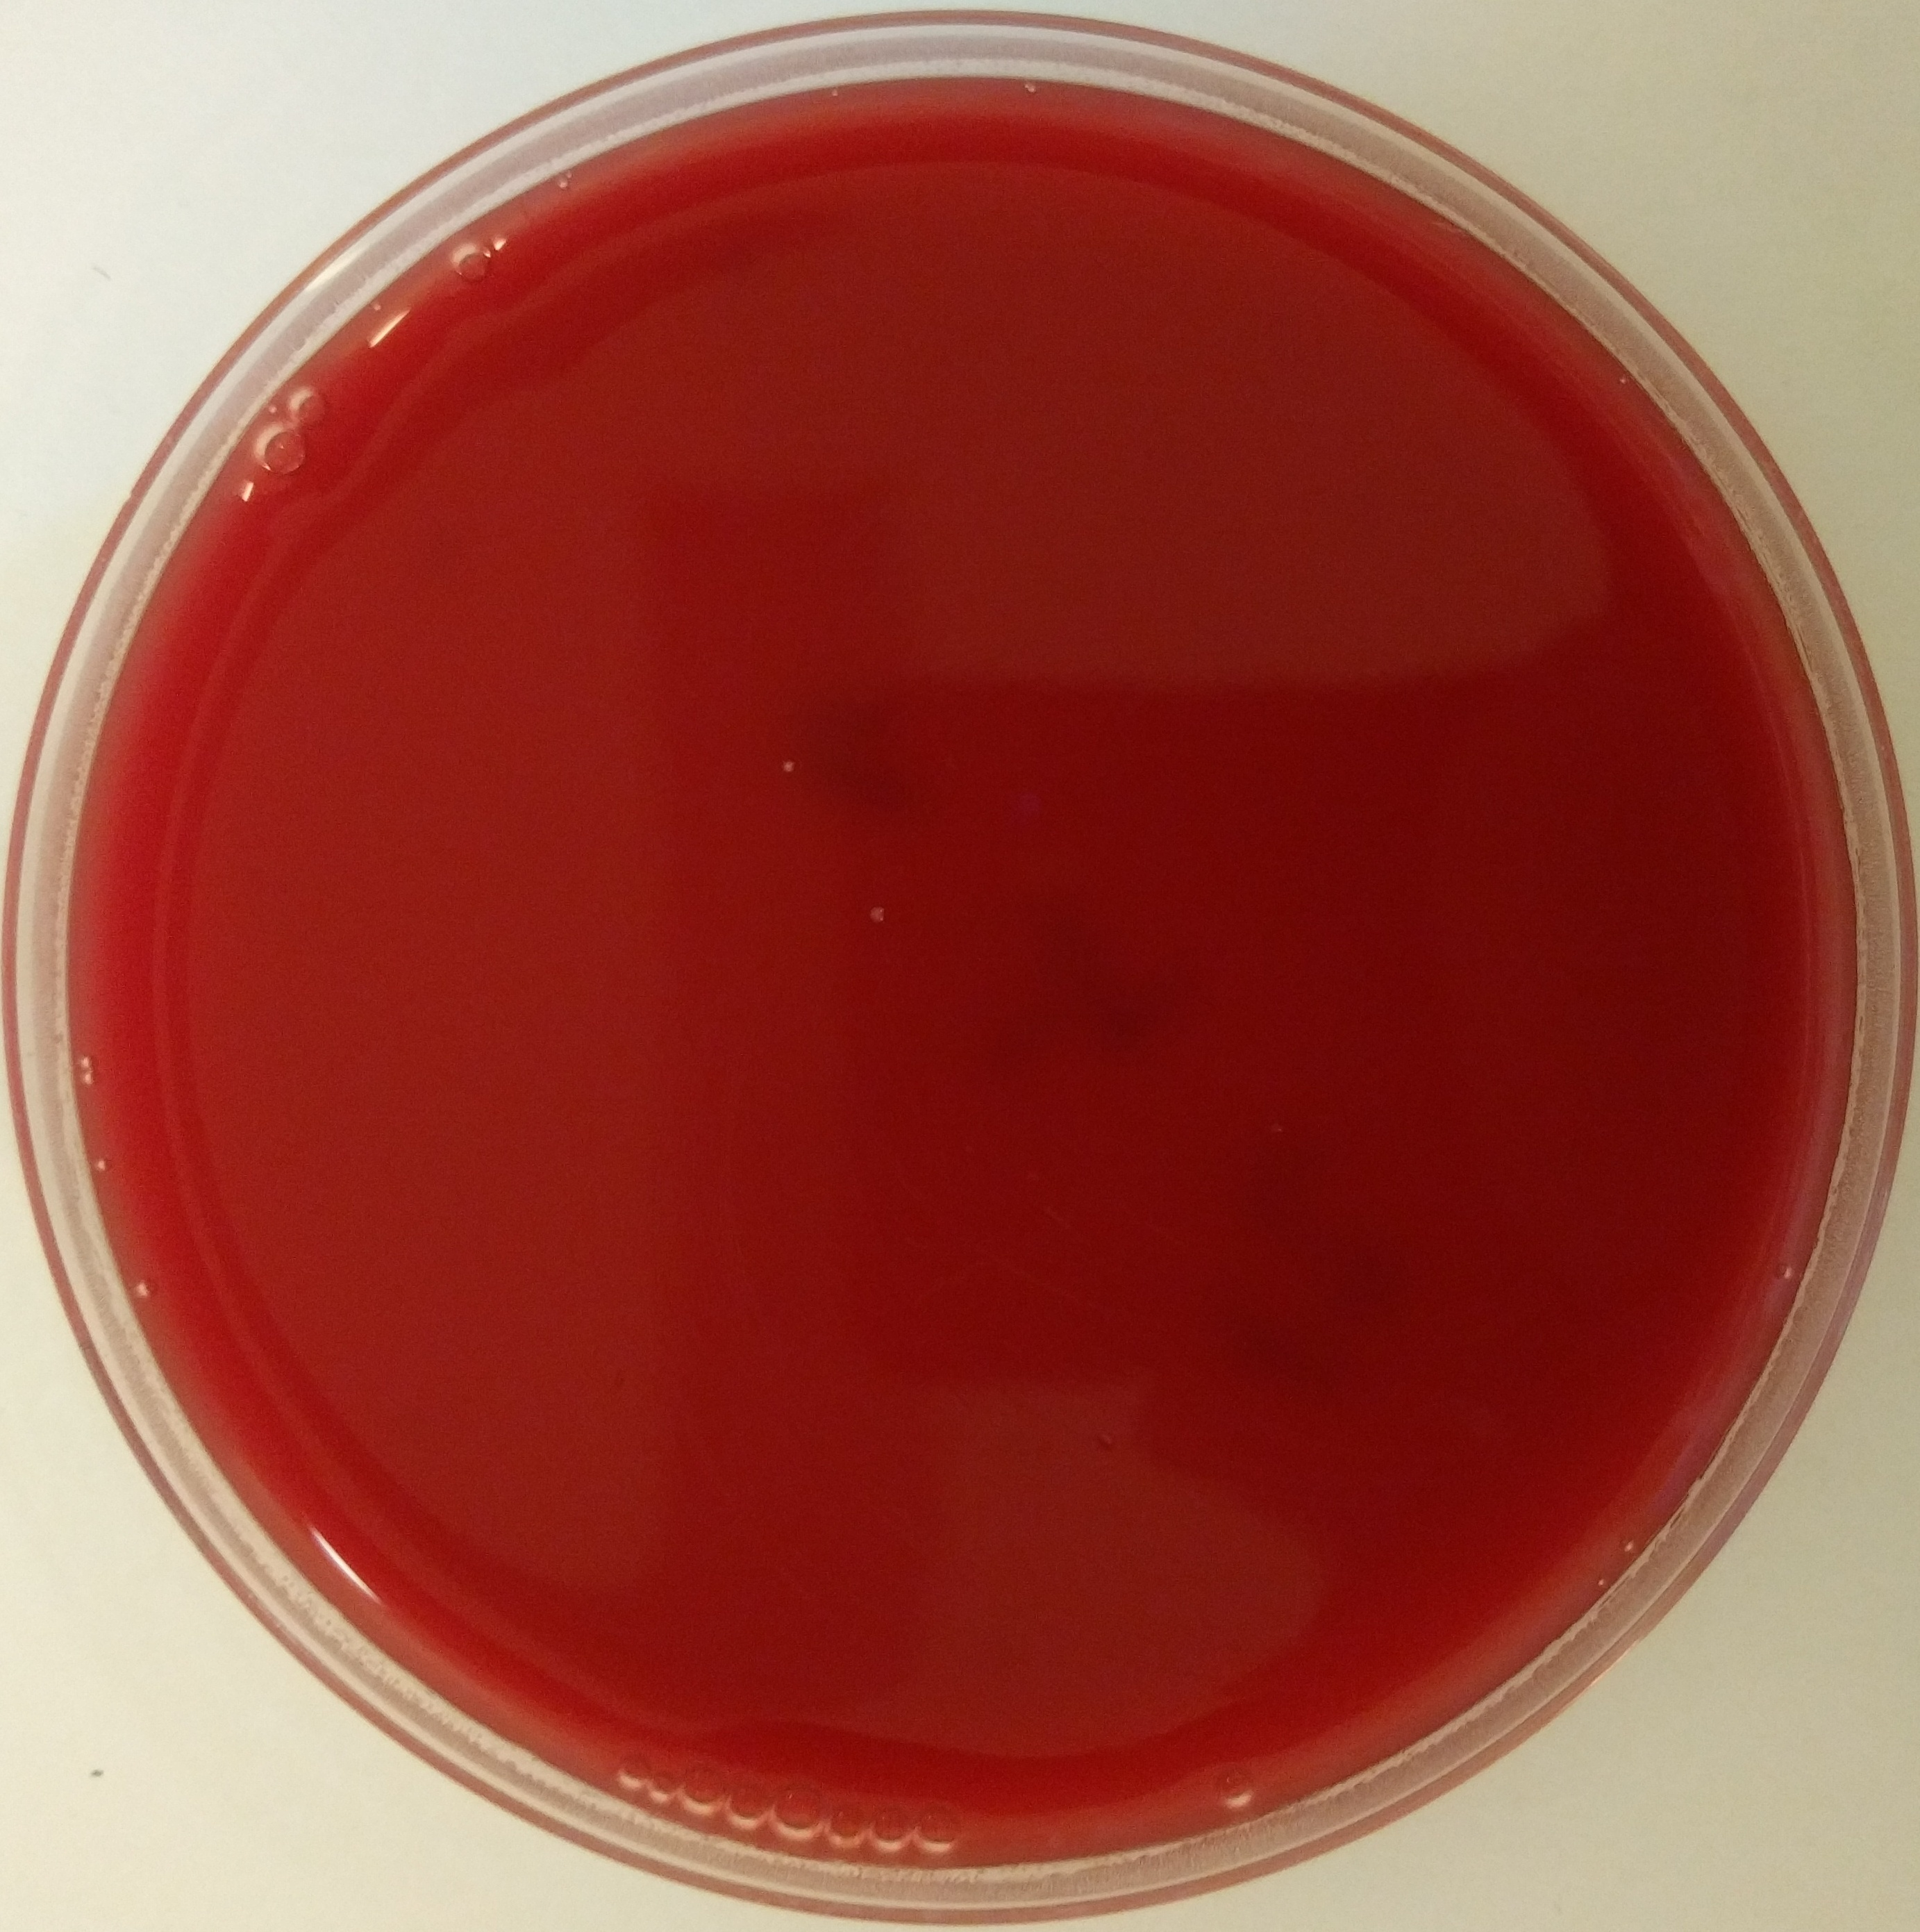sp09: (772, 752, 802, 777), (865, 900, 888, 930), (1264, 1118, 1289, 1143)
